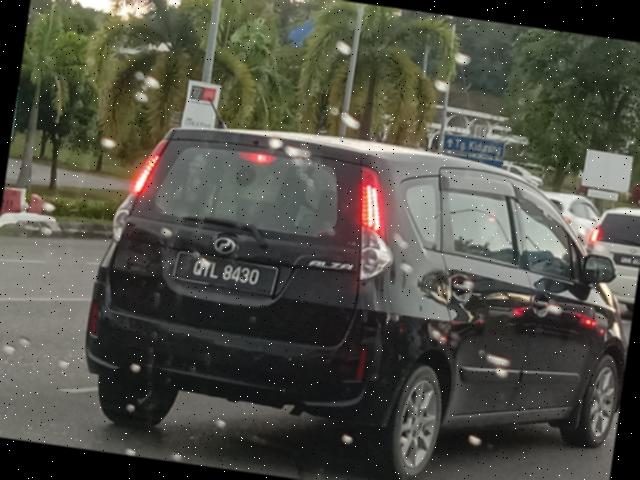License_Plate: (173, 252, 280, 297)
car: (66, 102, 640, 480)
